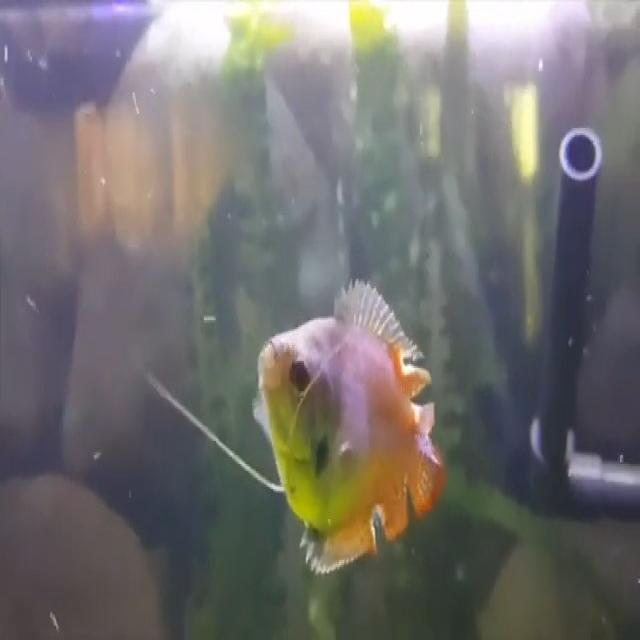fish: (249, 278, 449, 573)
